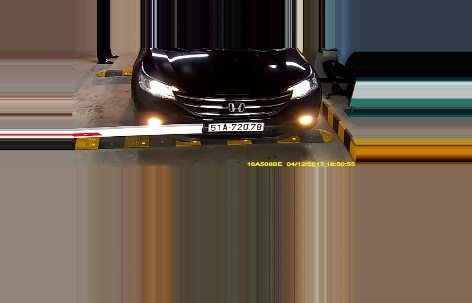plate: (208, 122, 266, 132)
